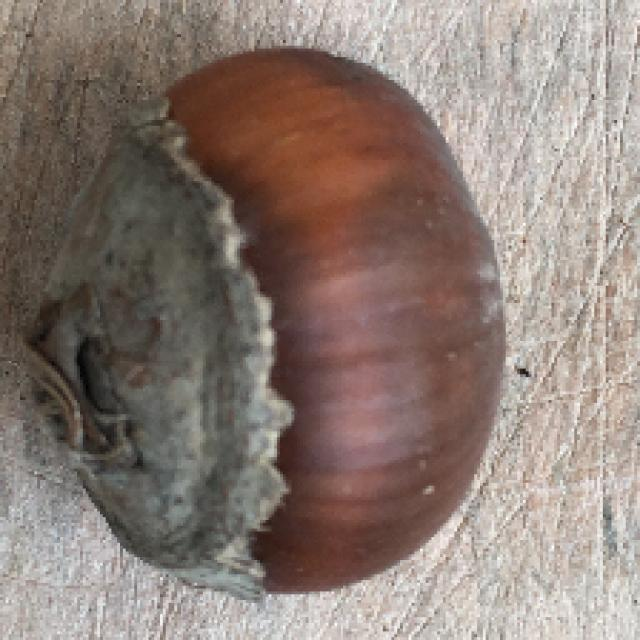damagedHazelnut: (29, 45, 514, 598)
